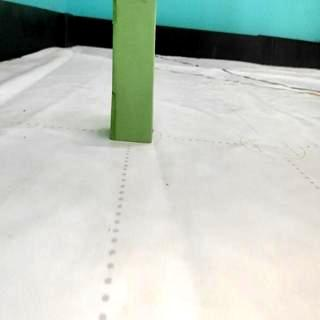greenbox: (111, 0, 158, 145)
